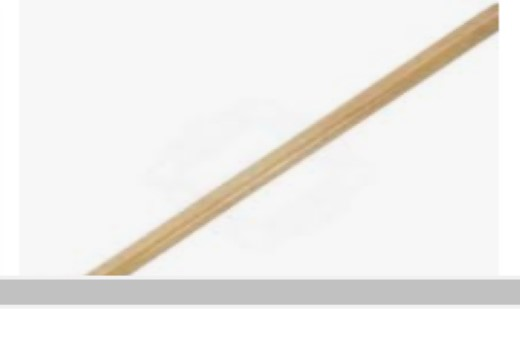baston_e: (126, 4, 485, 275)
baston_v: (73, 262, 133, 299), (480, 0, 507, 45)
